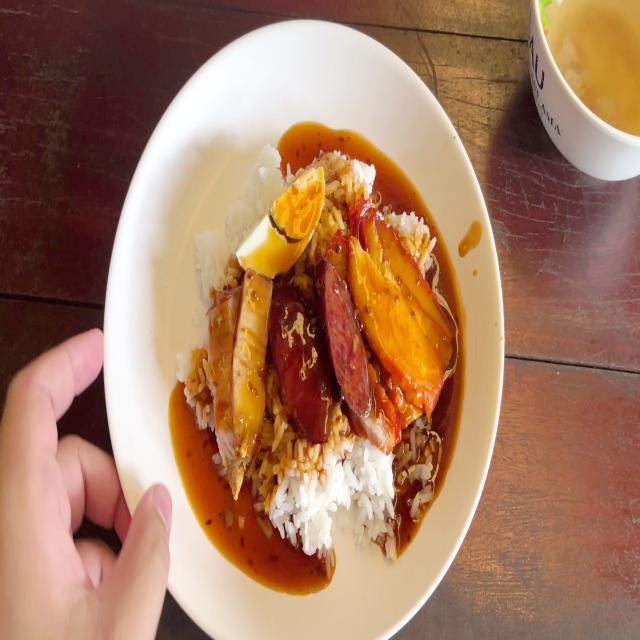boiled_egg: (238, 168, 323, 268)
chainese_sausage: (271, 262, 366, 429)
crispy_pork: (210, 279, 270, 479)
red_pork: (356, 216, 445, 390)
red_pork_and_crispy_pork: (178, 143, 450, 552)
rice: (266, 446, 384, 544)
